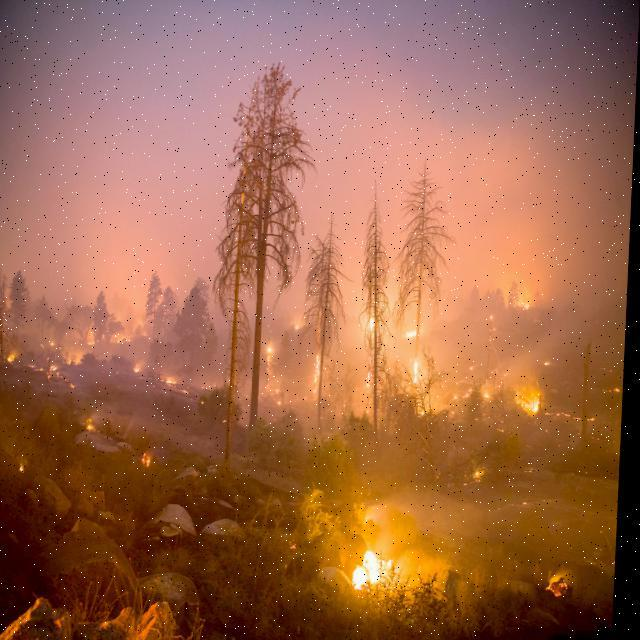Fire: (358, 308, 442, 412), (262, 330, 332, 405), (346, 539, 406, 591), (481, 375, 547, 418), (550, 566, 579, 604), (507, 290, 536, 314)
